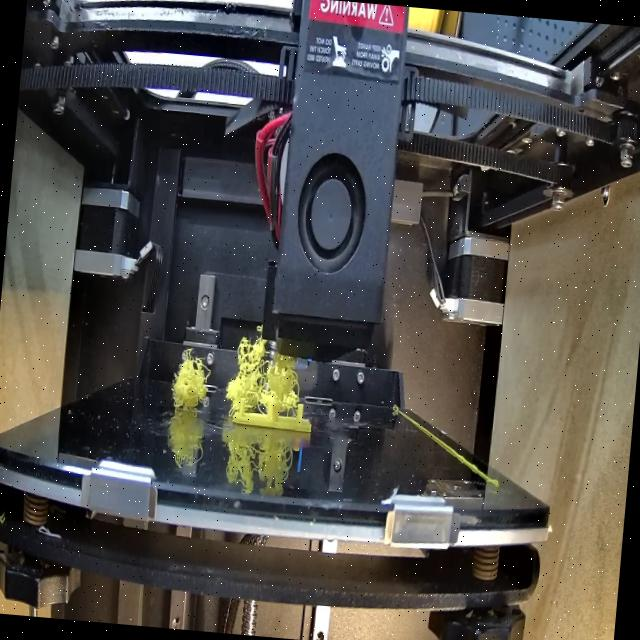spaghetti: (228, 326, 297, 414), (165, 356, 212, 410)
